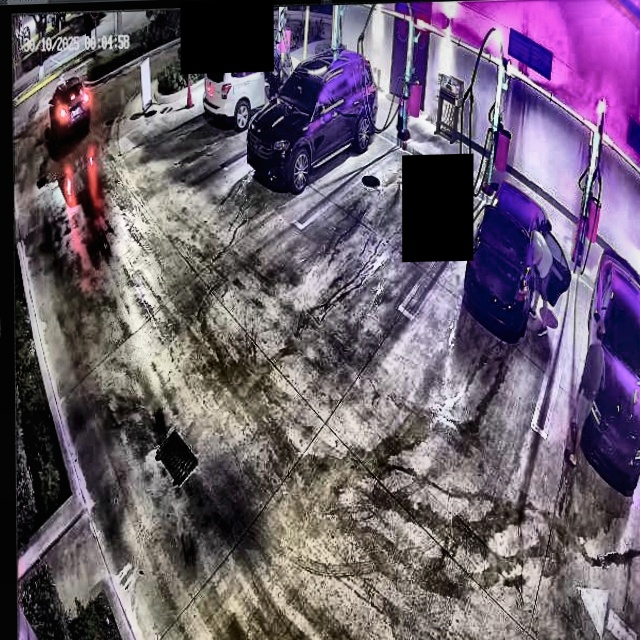Car: (247, 44, 380, 196), (461, 175, 570, 344)
